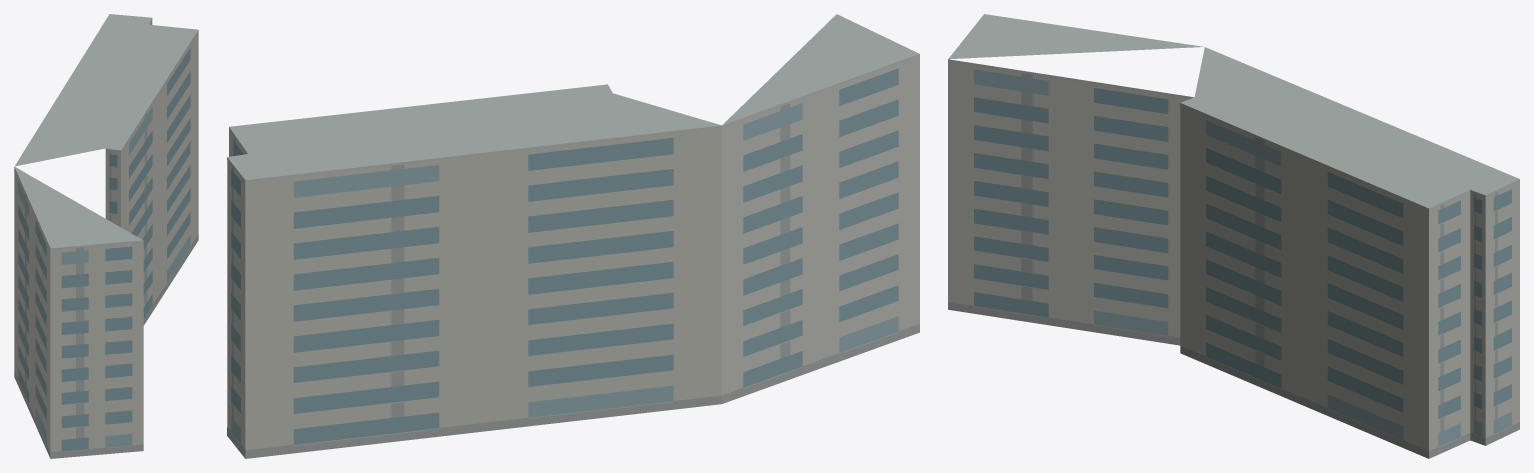
Rendered from survey-upis-32933128.glb.
3 views of the same model, side by side, from view 1: azimuth 30°, elevation 25°; view 2: azimuth 150°, elevation 25°; view 3: azimuth 270°, elevation 25° (orthographic). The views are drawn at different scales.
Parts seen in each view (by area): view 1: survey-upis-32933128.tmp; view 2: survey-upis-32933128.tmp; view 3: survey-upis-32933128.tmp.
Part boxes in pixels (left/top/right/bottom): survey-upis-32933128.tmp: left=14, top=14, right=198, bottom=458; survey-upis-32933128.tmp: left=227, top=14, right=919, bottom=458; survey-upis-32933128.tmp: left=948, top=14, right=1519, bottom=458.
Bounding box in the file's own units: 45.71 × 27.45 × 56.8.
